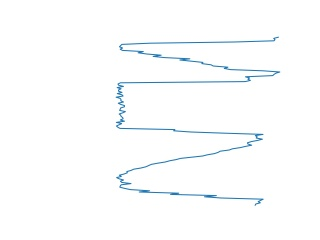distributaryChannelFill: (113, 73, 266, 142)
mouthBar: (115, 34, 283, 78)
underwaterDistributaryChannel: (113, 138, 269, 207)
